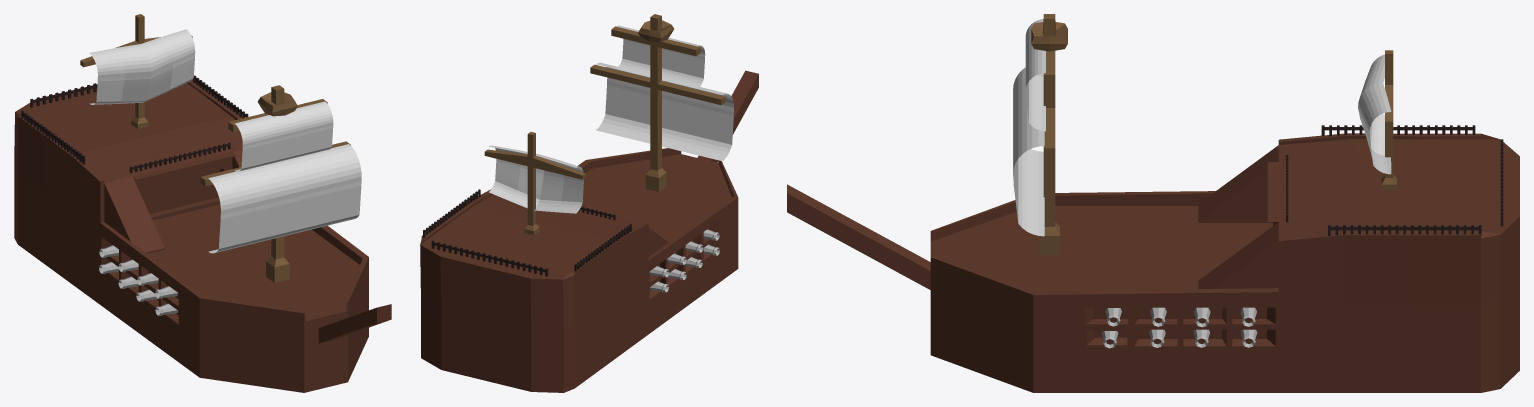
The model's file is pirateship.fbx.
3 views of the same model, side by side, from view 1: azimuth 30°, elevation 25°; view 2: azimuth 150°, elevation 25°; view 3: azimuth 270°, elevation 25° (orthographic). The views are drawn at different scales.
Parts seen in each view (by area): view 1: Plane.002; view 2: Plane.002; view 3: Plane.002.
Boxes of the visible parts, x1,y1,x2,y2 form: Plane.002: (14,14,391,392); Plane.002: (420,14,758,392); Plane.002: (787,14,1519,392).
Size of the model in its own units: 2514 by 3399 by 6932.
